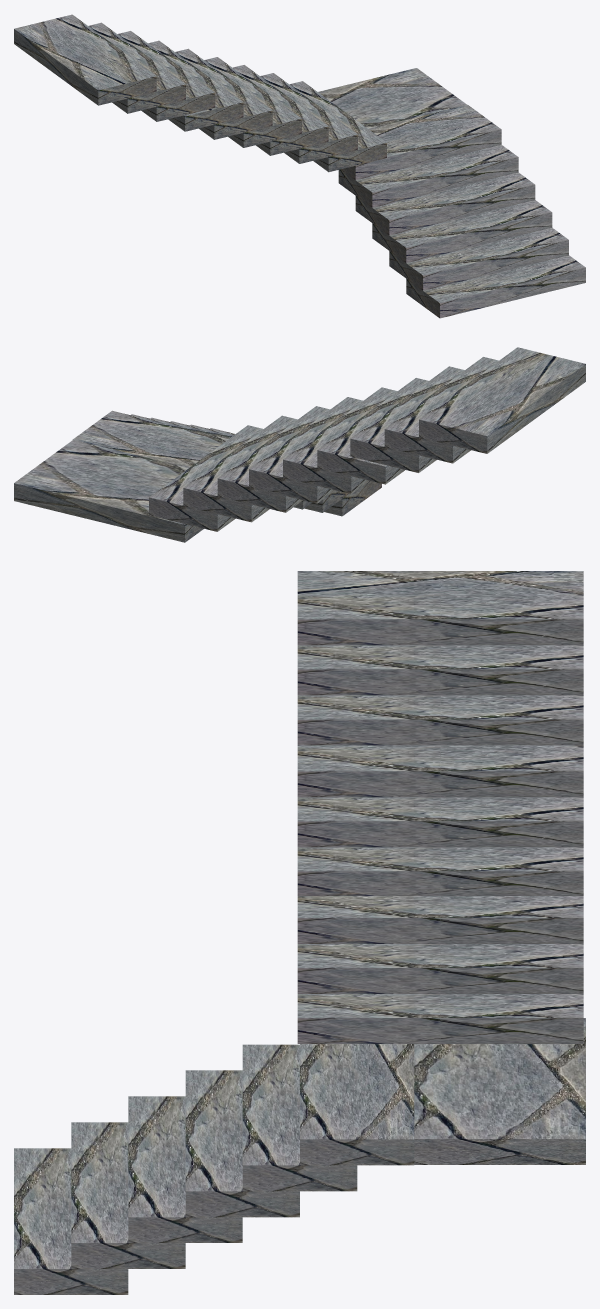
The model's file is stairs_v3.dae.
The picture shows the model from 3 angles, top to bottom: view 1: azimuth 30°, elevation 25°; view 2: azimuth 150°, elevation 25°; view 3: azimuth 270°, elevation 25°; orthographic projection. The views are drawn at different scales.
Visible parts, largest first — view 1: Cube.006; view 2: Cube.006; view 3: Cube.006.
Boxes of the visible parts, box(x1,y1,x2,y2) form: Cube.006: box(14, 14, 585, 318); Cube.006: box(14, 347, 585, 542); Cube.006: box(14, 571, 585, 1294).
Size of the model in its own units: 5.53 by 4 by 3.01.
Materials: 16 (16 with a texture image).
